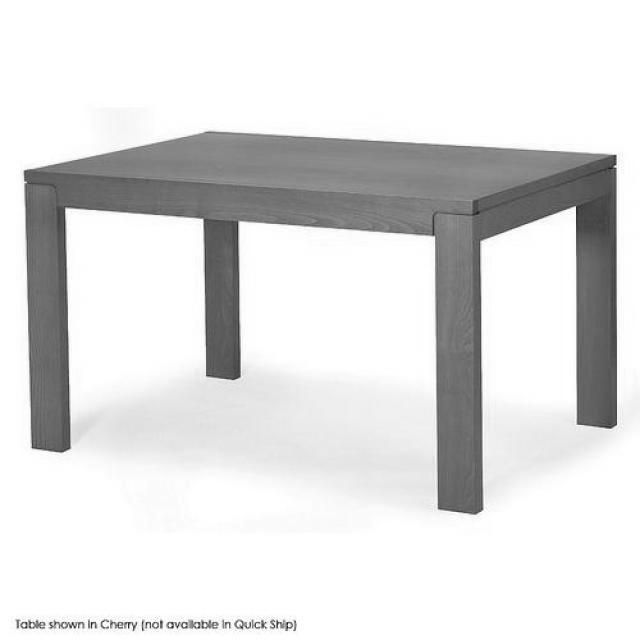table: (22, 119, 620, 518)
